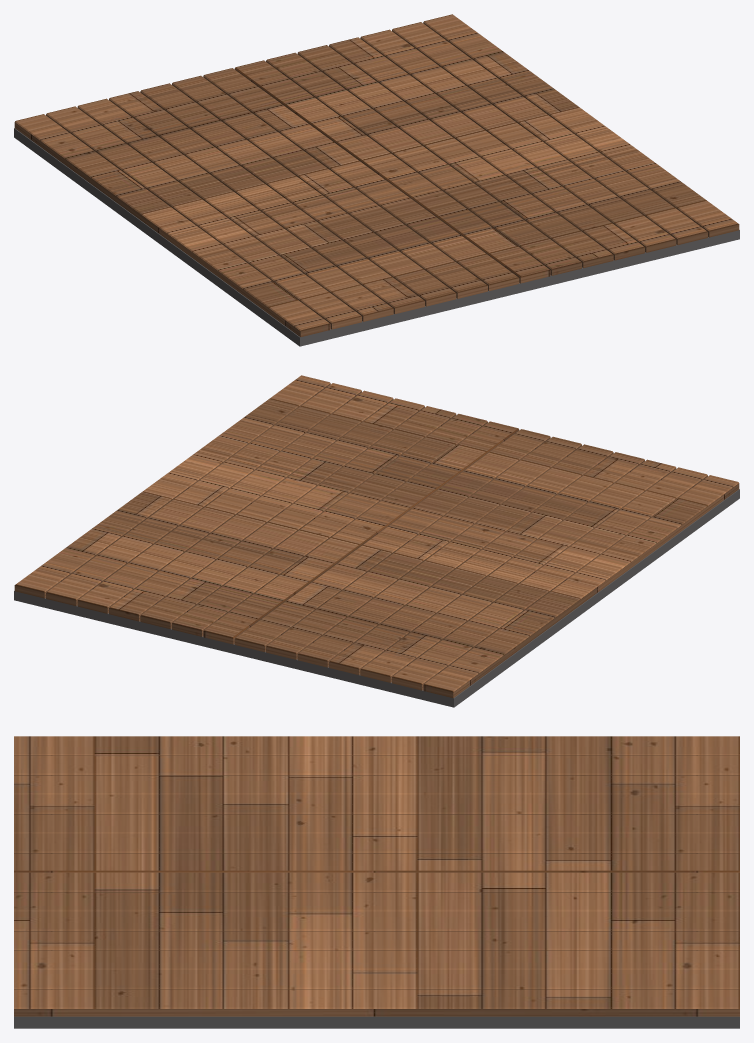
File: porch_deck.glb
The picture shows the model from 3 angles, top to bottom: view 1: azimuth 30°, elevation 25°; view 2: azimuth 150°, elevation 25°; view 3: azimuth 270°, elevation 25°; orthographic projection. The views are drawn at different scales.
Visible parts, largest first — view 1: porch_deck_deck, porch_deck_dark; view 2: porch_deck_deck, porch_deck_dark; view 3: porch_deck_deck, porch_deck_dark.
Boxes of the visible parts, box(x1,y1,x2,y2) form: porch_deck_deck: box(14, 14, 739, 337); porch_deck_dark: box(14, 128, 739, 346); porch_deck_deck: box(14, 375, 739, 698); porch_deck_dark: box(14, 489, 739, 707); porch_deck_deck: box(14, 736, 739, 1016); porch_deck_dark: box(14, 1016, 739, 1028).
Bounding box in the file's own units: 2 × 0.07 × 2.25.
Materials: 2 (1 with a texture image).
